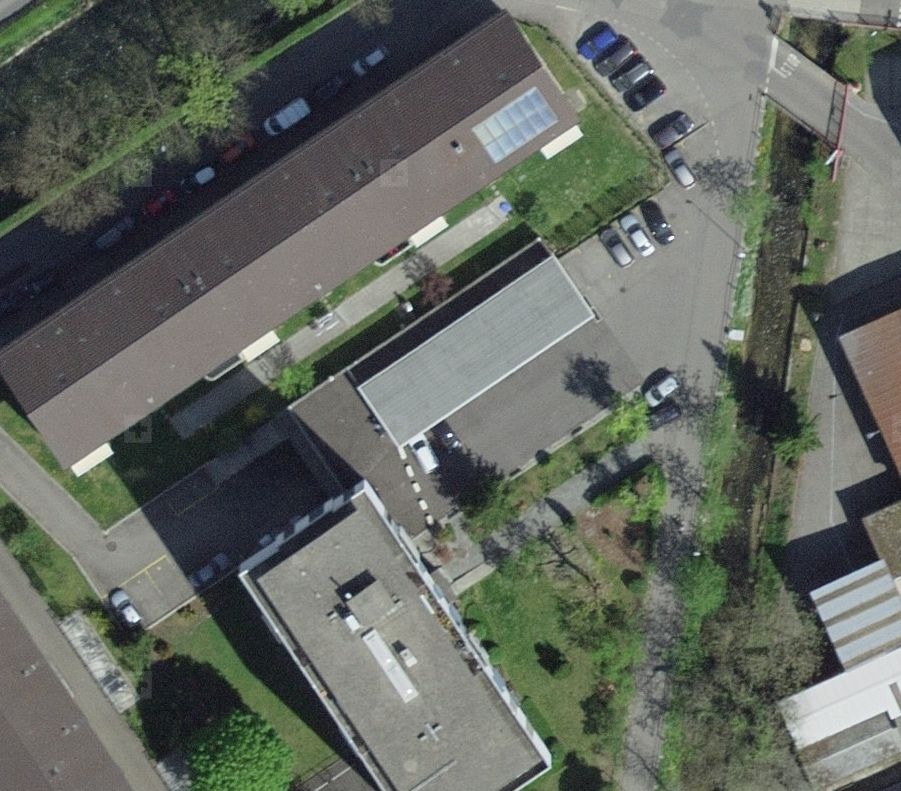solar: (460, 82, 568, 170)
